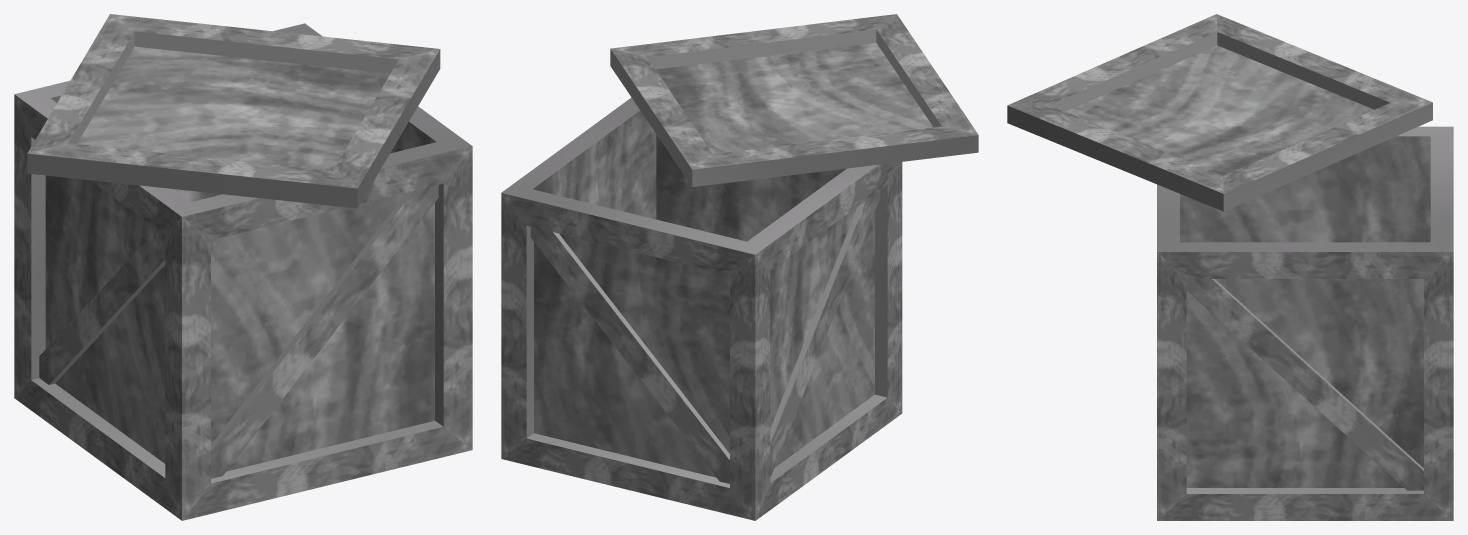
The model's file is Closed.fbx.
3 renders of one model, left to right at view 1: azimuth 30°, elevation 25°; view 2: azimuth 150°, elevation 25°; view 3: azimuth 270°, elevation 25°, orthographic. The views are drawn at different scales.
Visible parts, largest first — view 1: Crate, Lid; view 2: Crate, Lid; view 3: Crate, Lid.
Part boxes in pixels (left/top/right/bottom): Crate: left=14, top=23, right=472, bottom=520; Lid: left=27, top=14, right=440, bottom=208; Crate: left=501, top=97, right=902, bottom=520; Lid: left=610, top=14, right=978, bottom=186; Crate: left=1157, top=126, right=1453, bottom=520; Lid: left=1007, top=14, right=1432, bottom=211.
Bounding box in the file's own units: 1.88 × 1.6 × 1.97.
1 material, 1 textured.
